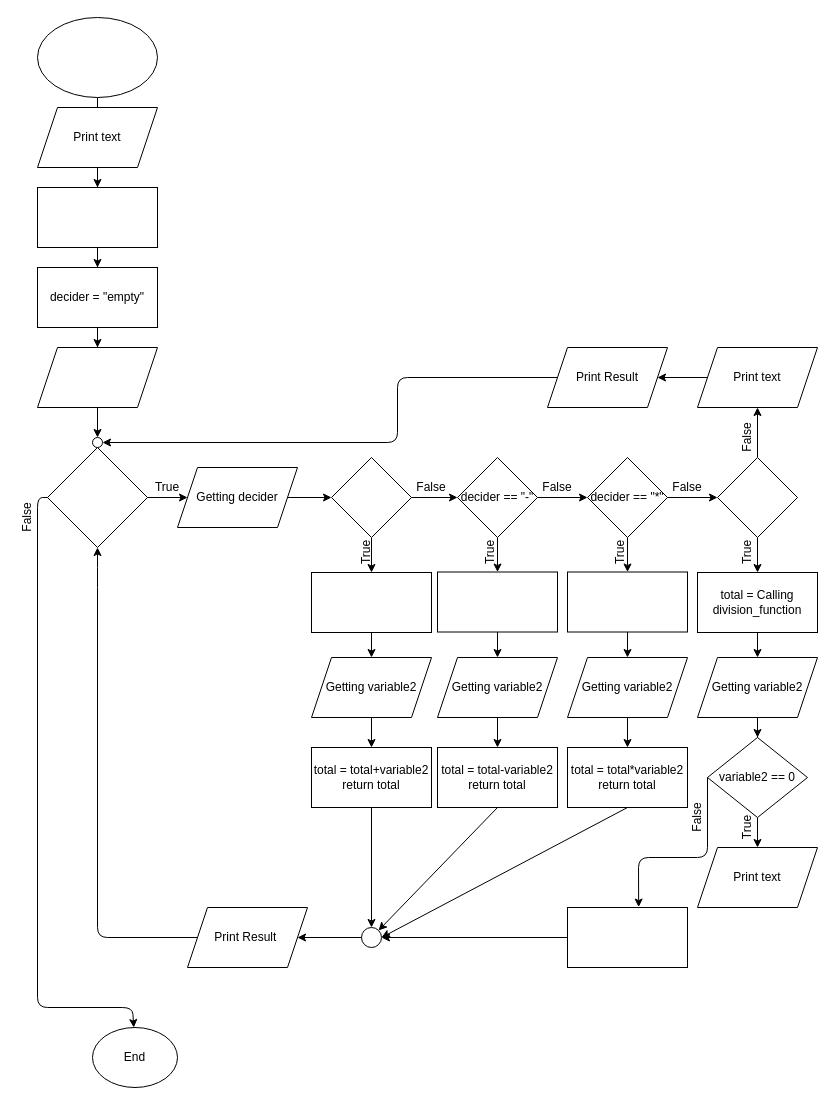
Image size: 835x1105. Some labels were removed from this diagram. Each missing label, with the centre of its shape:
Calling calculator function: (97,217)
decider != Q: (97,497)
decider == "+": (371,497)
decider == "/": (757,497)
Getting total (first number: (97,377)
Start: (97,57)
total = Calling multiplication_function: (627,601)
total = Calling substraction_function: (497,601)
total = Calling sum_function: (371,602)
total = total/variable2 return total: (627,937)
